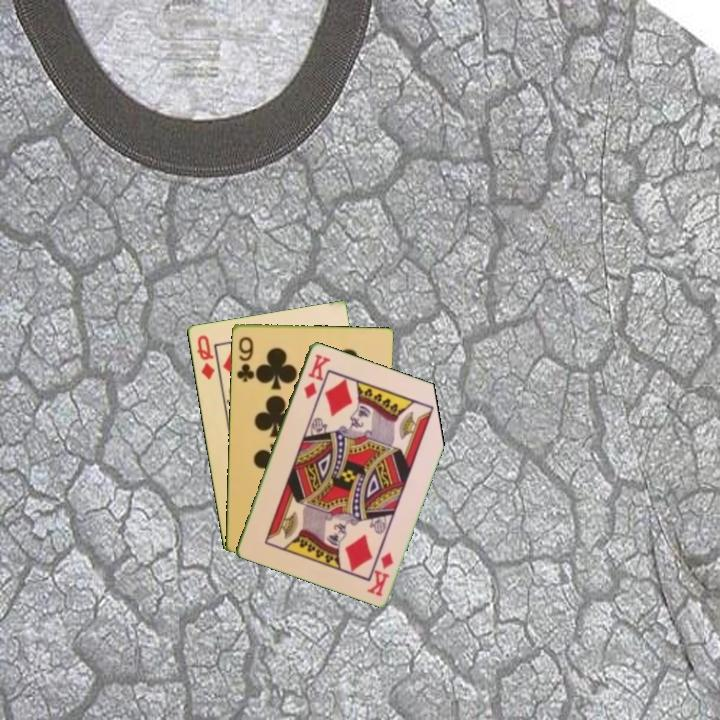9c: (233, 333, 256, 384)
Kd: (300, 350, 332, 402), (364, 548, 396, 599)
Qd: (193, 331, 217, 382)
